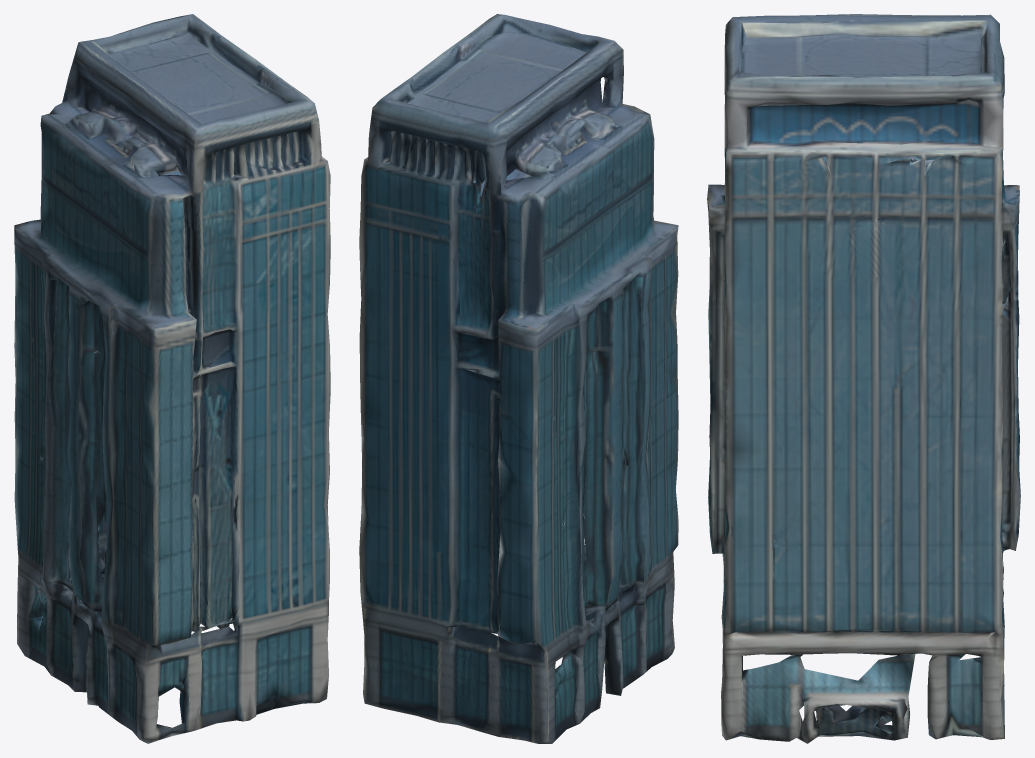
The model's file is KR_OfficeTower_01.glb.
3 renders of one model, left to right at view 1: azimuth 30°, elevation 25°; view 2: azimuth 150°, elevation 25°; view 3: azimuth 270°, elevation 25°, orthographic. The views are drawn at different scales.
Visible parts, largest first — view 1: texture_mapping; view 2: texture_mapping; view 3: texture_mapping.
Boxes of the visible parts, x1,y1,x2,y2 form: texture_mapping: (14, 14, 330, 743); texture_mapping: (359, 14, 678, 743); texture_mapping: (707, 14, 1020, 743).
Bounding box in the file's own units: 0.3468 × 1 × 0.4324.
1 material, 1 textured.
